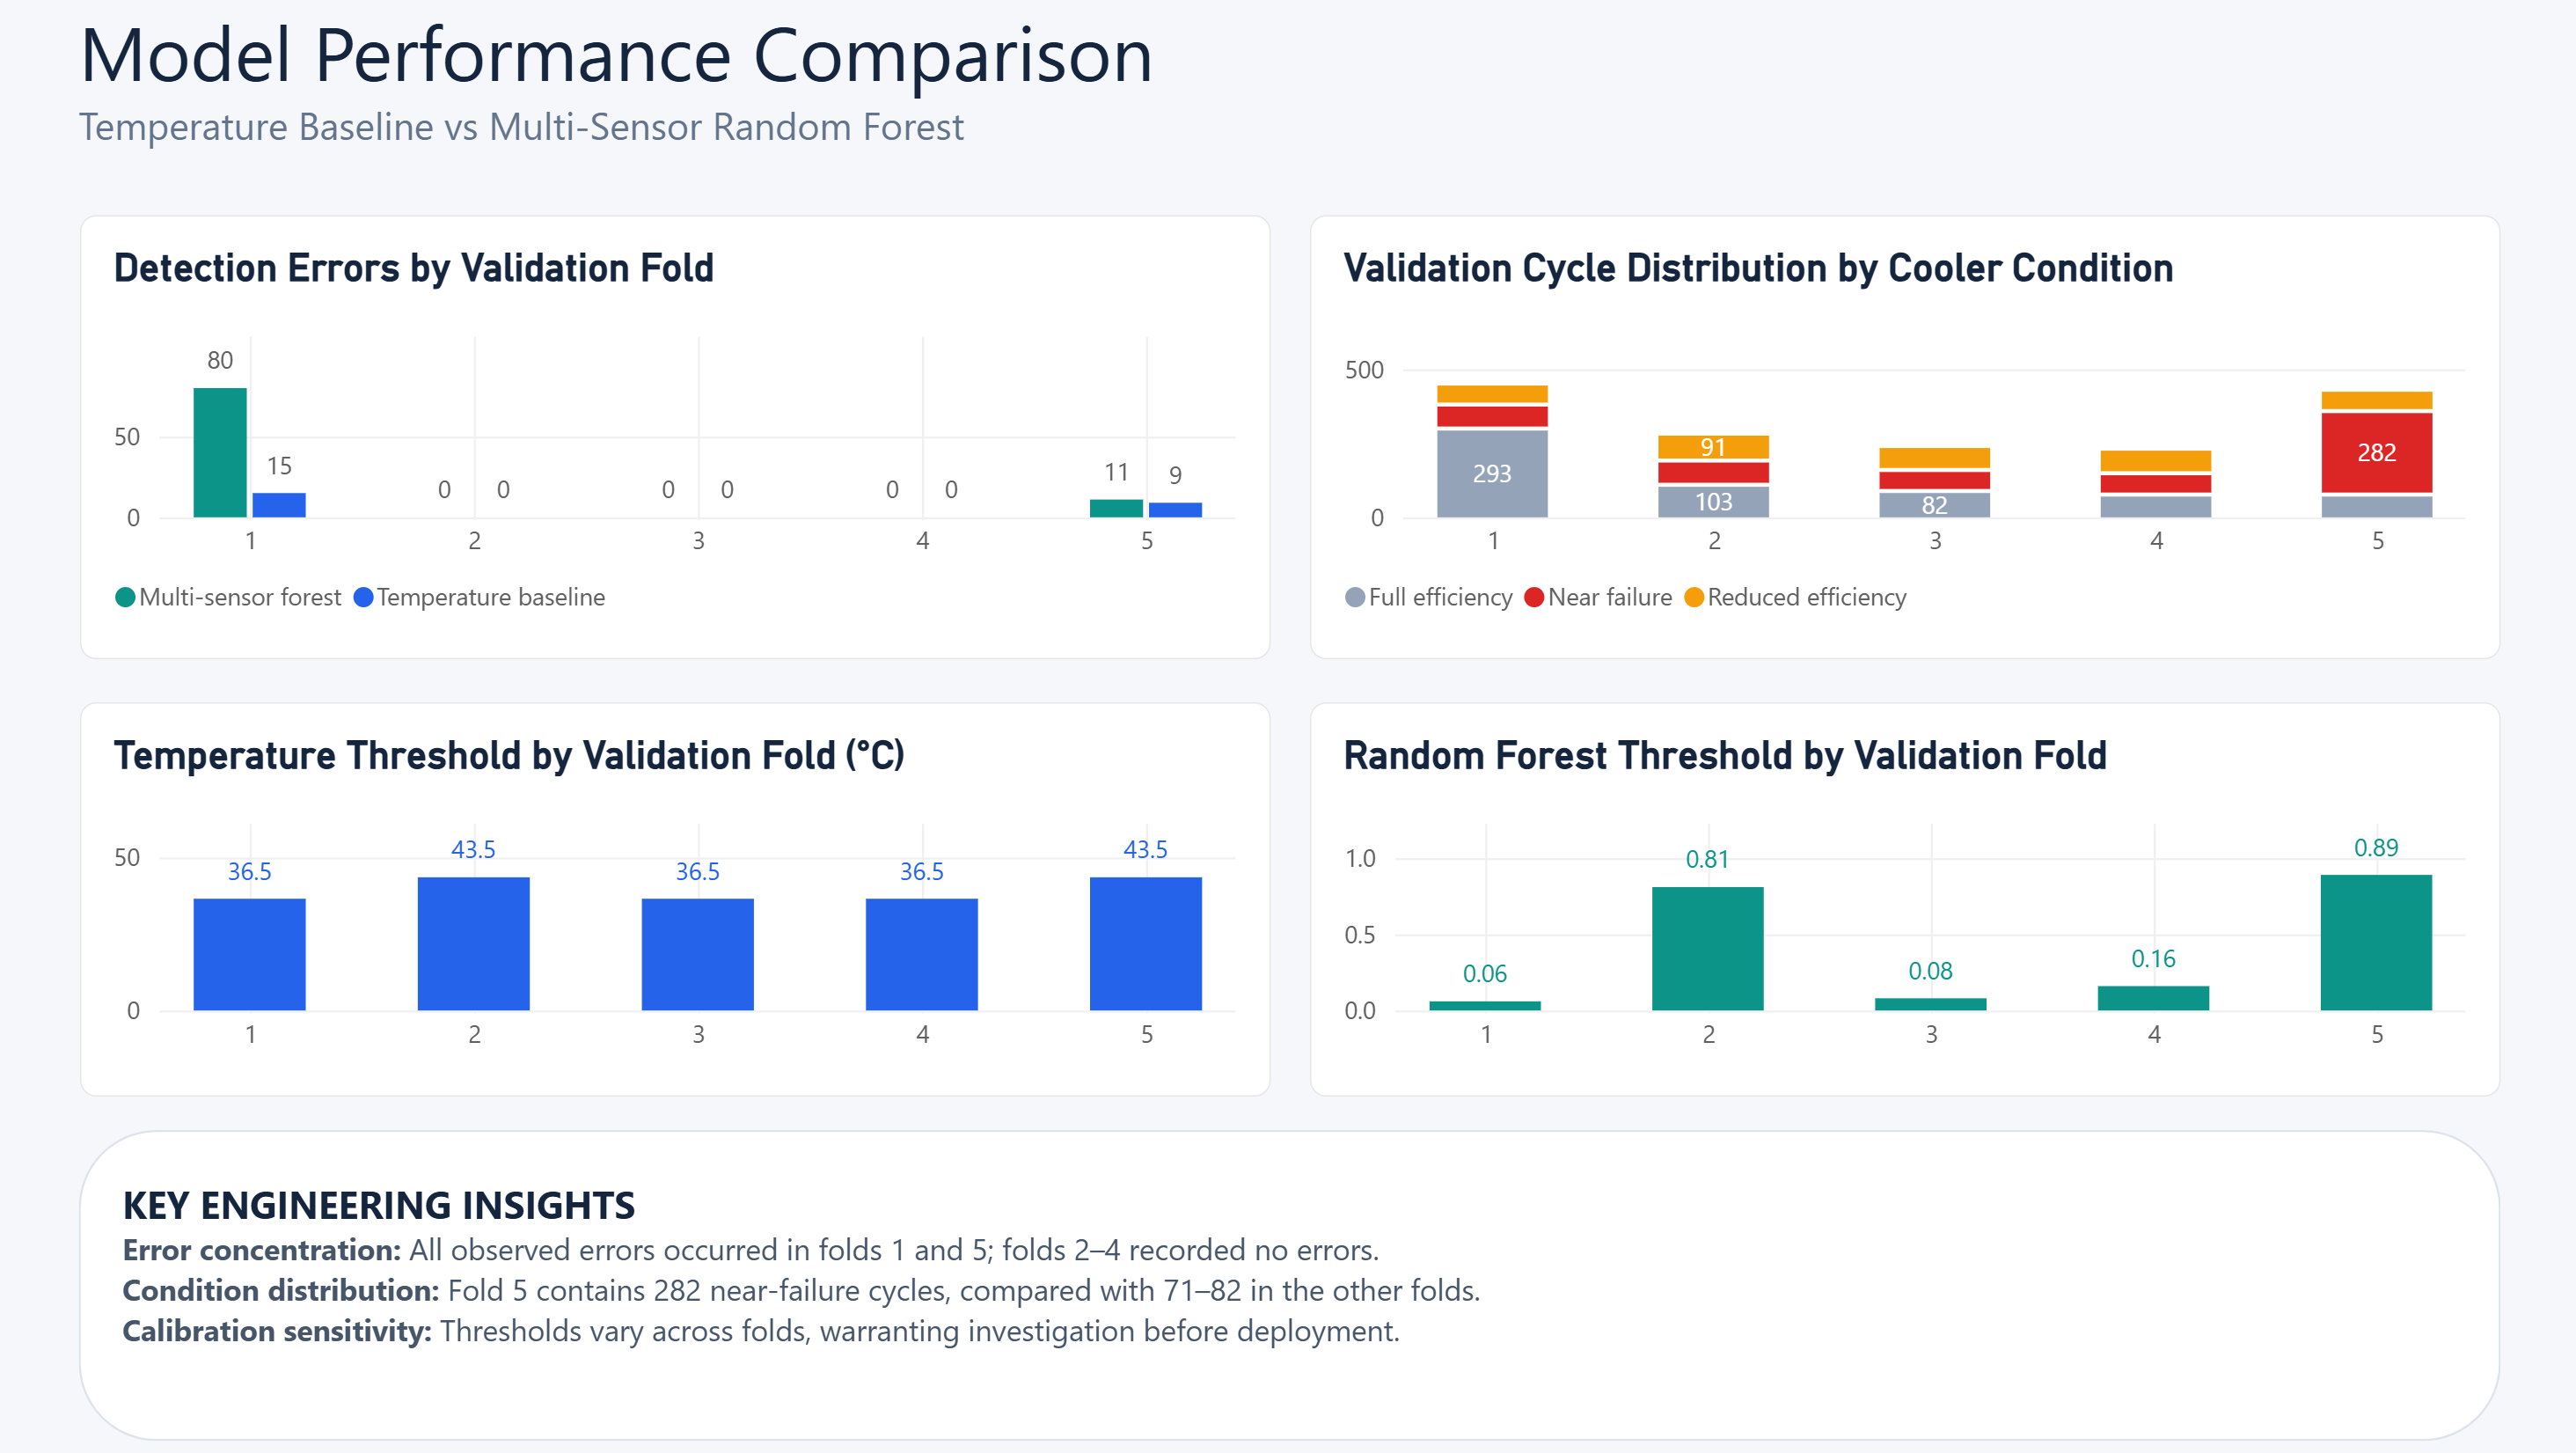

Layout of this report page (visuals, bound fields, positions):
{"tool":"powerbi","page":{"name":"02 Model Comparison","canvas":[1280,720],"ordinal":1},"visuals":[{"type":"textbox","box":[40,0,587.4,97.9],"z":0},{"type":"clusteredColumnChart","title":"Detection Errors by Validation Fold","fields":{"Category":["Predictions.fold"],"Series":["Predictions.model"],"Y":["Analytics Measures.Total Alert Errors"]},"box":[40.4,106.9,590,220],"z":1000},{"type":"columnChart","title":"Validation Cycle Distribution by Cooler Condition","fields":{"Category":["Predictions.fold"],"Series":["Predictions.Cooler Condition Label"],"Y":["Analytics Measures.Validation Cycles"]},"box":[649.9,106.9,590,220],"z":2000},{"type":"clusteredColumnChart","title":"Temperature Threshold by Validation Fold (°C)","fields":{"Category":["Predictions.fold"],"Y":["Max(Predictions.threshold)"]},"box":[40.4,348,590,195],"z":3000},{"type":"clusteredColumnChart","title":"Random Forest Threshold by Validation Fold","fields":{"Category":["Predictions.fold"],"Y":["Max(Predictions.threshold)"]},"box":[649.9,348,590,195],"z":4000},{"type":"shape","box":[40.1,559.7,1200.3,154.1],"z":5000},{"type":"textbox","box":[61.3,565,1179,147.8],"z":6000}]}

Visuals, with their boxes in screenshot pixels (x1, y1, x2, y2), scaled from the page's 1280x720 canvas onto the 2576x1453 screenshot:
textbox: x1=81 y1=0 x2=1262 y2=197
"Detection Errors by Validation Fold" clusteredColumnChart: x1=81 y1=216 x2=1269 y2=660
"Validation Cycle Distribution by Cooler Condition" columnChart: x1=1308 y1=216 x2=2495 y2=660
"Temperature Threshold by Validation Fold (°C)" clusteredColumnChart: x1=81 y1=702 x2=1269 y2=1096
"Random Forest Threshold by Validation Fold" clusteredColumnChart: x1=1308 y1=702 x2=2495 y2=1096
shape: x1=81 y1=1129 x2=2496 y2=1441
textbox: x1=123 y1=1141 x2=2496 y2=1438
